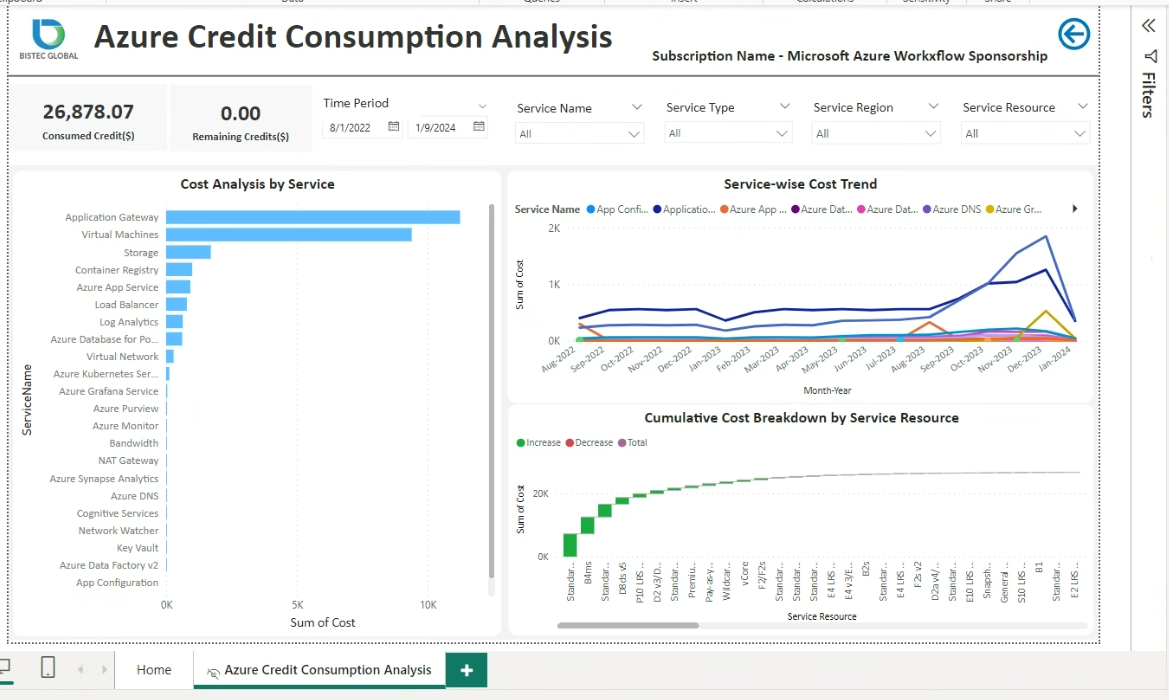

This screenshot's page, from the dashboard's own definition file:
{"tool":"powerbi","page":{"name":"Azure Credit Consumption Analysis","canvas":[1300,760],"ordinal":1},"visuals":[{"type":"group","id":"g1","title":"Header","box":[0,3.5,1538.3,77.8],"z":0},{"type":"shape","box":[0,3.5,1538.3,72.7],"z":0,"group":"g1"},{"type":"textbox","title":"Title","box":[96.8,5.2,653.5,69.1],"z":1000,"group":"g1"},{"type":"shape","box":[0,191.6,1298.3,565.3],"z":1000},{"type":"slicer","fields":{"Values":["AzureUsage_Workxflow.ServiceName"]},"box":[593,108.6,174.6,70.9],"z":2000},{"type":"actionButton","box":[1246.4,7,48.4,53.6],"z":3000,"group":"g1"},{"type":"slicer","fields":{"Values":["AzureUsage_Workxflow.ServiceType"]},"box":[771,106.9,172.9,70.9],"z":3000},{"type":"textbox","box":[762.4,43.3,492.7,38],"z":3500,"group":"g1"},{"type":"slicer","fields":{"Values":["AzureUsage_Workxflow.ServiceRegion"]},"box":[947.3,106.9,174.6,72.6],"z":4000},{"type":"slicer","fields":{"Values":["AzureUsage_Workxflow.ServiceResource"]},"box":[1125.4,106.9,174.6,72.6],"z":5000},{"type":"clusteredBarChart","title":"Cost Analysis by Service","fields":{"Category":["AzureUsage_Workxflow.ServiceName"],"Y":["Sum(AzureUsage_Workxflow.Cost)"]},"box":[5.2,196.9,582,554.9],"z":6000},{"type":"lineChart","title":"Service-wise Cost Trend","fields":{"Y":["Sum(AzureUsage_Workxflow.Cost)"],"Series":["AzureUsage_Workxflow.ServiceName"],"Category":["AzureUsage_Workxflow.Date Hierarchy.Year","AzureUsage_Workxflow.Date Hierarchy.Quater","AzureUsage_Workxflow.Date Hierarchy.Month-Year","AzureUsage_Workxflow.Date Hierarchy.Month","AzureUsage_Workxflow.Date Hierarchy.Day"]},"box":[595.4,197.4,698,276.5],"z":7000},{"type":"waterfallChart","title":"Cumulative Cost Breakdown by Service Resource","fields":{"Category":["AzureUsage_Workxflow.ServiceResource"],"Y":["Sum(AzureUsage_Workxflow.Cost)"]},"box":[596.4,476.5,697.8,275.1],"z":8000},{"type":"slicer","fields":{"Values":["AzureUsage_Workxflow.Date"]},"box":[361.3,113.8,221.3,77.8],"z":9000},{"type":"shape","box":[0,77.8,1300,13.8],"z":10000},{"type":"card","fields":{"Values":["AzureUsage_Workxflow.Consumed Credit"]},"box":[0.7,94.4,188.2,79.8],"z":11000},{"type":"textbox","box":[370,102.5,122.6,35.6],"z":12000},{"type":"card","fields":{"Values":["AzureUsage_Workxflow.Remaining"]},"box":[191.9,95,169.4,79.5],"z":13000},{"type":"image","box":[0,0,95.1,84.7],"z":14000}]}

Visuals, with their boxes on the page's 1300x760 design canvas (x1, y1, x2, y2). These are canvas units, not pixel positions in the 1169x700 screenshot, which may show the page scaled, cropped or inside an application window:
"Header" group: 0 4 1538 81
shape: 0 4 1538 76
"Title" textbox: 97 5 750 74
shape: 0 192 1298 757
slicer - AzureUsage_Workxflow.ServiceName: 593 109 768 180
actionButton: 1246 7 1295 61
slicer - AzureUsage_Workxflow.ServiceType: 771 107 944 178
textbox: 762 43 1255 81
slicer - AzureUsage_Workxflow.ServiceRegion: 947 107 1122 180
slicer - AzureUsage_Workxflow.ServiceResource: 1125 107 1300 180
"Cost Analysis by Service" clusteredBarChart: 5 197 587 752
"Service-wise Cost Trend" lineChart: 595 197 1293 474
"Cumulative Cost Breakdown by Service Resource" waterfallChart: 596 476 1294 752
slicer - AzureUsage_Workxflow.Date: 361 114 583 192
shape: 0 78 1300 92
card - AzureUsage_Workxflow.Consumed Credit: 1 94 189 174
textbox: 370 102 493 138
card - AzureUsage_Workxflow.Remaining: 192 95 361 174
image: 0 0 95 85
